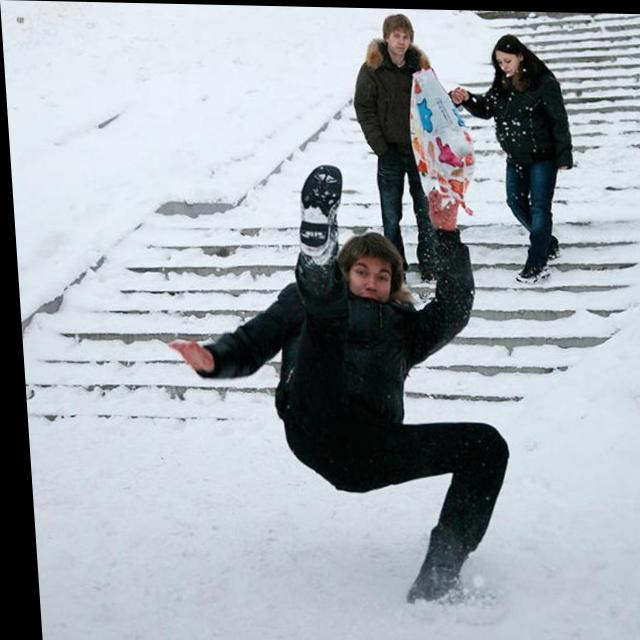fall: (158, 168, 507, 615)
